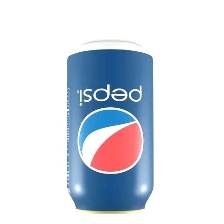can: (62, 39, 159, 219)
